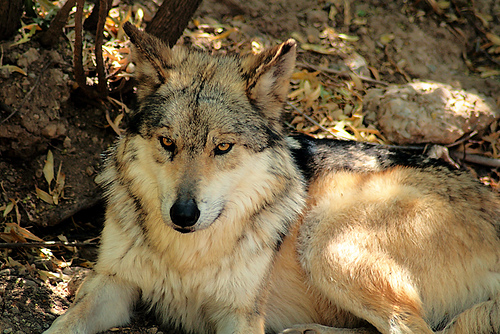Lobo: (66, 17, 457, 322)
